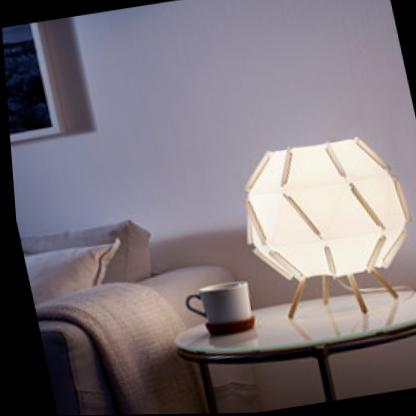Lamp: (215, 108, 416, 335)
